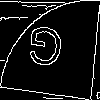G: (24, 25, 66, 76)
